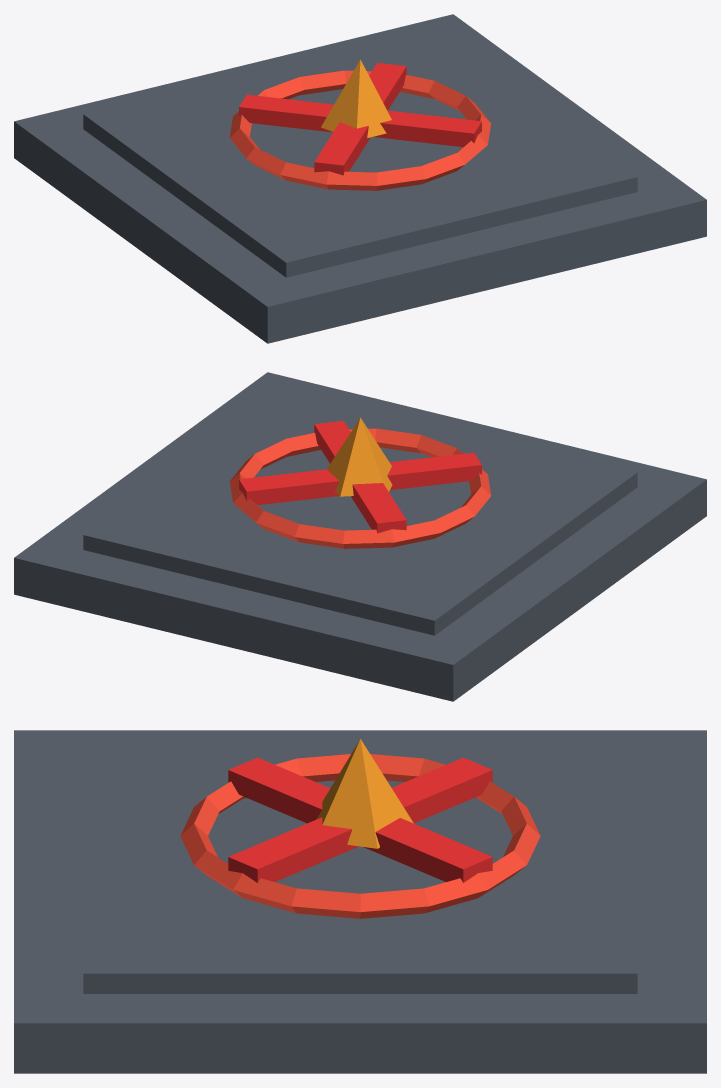
The model's file is TD_DamageTile.fbx.
The picture shows the model from 3 angles, top to bottom: view 1: azimuth 30°, elevation 25°; view 2: azimuth 150°, elevation 25°; view 3: azimuth 270°, elevation 25°; orthographic projection. The views are drawn at different scales.
Parts seen in each view (by area): view 1: TD_DamageTile_Surface, TD_DamageTile_BasePlate, TD_DamageTile_DamageRing, TD_DamageTile_X_B, TD_DamageTile_X_A, TD_DamageTile_SharpMarker; view 2: TD_DamageTile_Surface, TD_DamageTile_BasePlate, TD_DamageTile_DamageRing, TD_DamageTile_X_A, TD_DamageTile_SharpMarker, TD_DamageTile_X_B; view 3: TD_DamageTile_Surface, TD_DamageTile_BasePlate, TD_DamageTile_DamageRing, TD_DamageTile_X_A, TD_DamageTile_X_B, TD_DamageTile_SharpMarker.
Boxes of the visible parts, box(x1,y1,x2,y2) form: TD_DamageTile_Surface: box(83, 28, 637, 277); TD_DamageTile_BasePlate: box(14, 14, 706, 343); TD_DamageTile_DamageRing: box(229, 70, 491, 190); TD_DamageTile_X_B: box(239, 94, 481, 146); TD_DamageTile_X_A: box(314, 63, 406, 175); TD_DamageTile_SharpMarker: box(321, 59, 391, 137); TD_DamageTile_Surface: box(83, 386, 637, 635); TD_DamageTile_BasePlate: box(14, 372, 706, 701); TD_DamageTile_DamageRing: box(229, 428, 491, 548); TD_DamageTile_X_A: box(239, 452, 481, 504); TD_DamageTile_SharpMarker: box(327, 417, 392, 496); TD_DamageTile_X_B: box(314, 421, 406, 533); TD_DamageTile_Surface: box(83, 739, 637, 993); TD_DamageTile_BasePlate: box(14, 730, 706, 1073); TD_DamageTile_DamageRing: box(180, 754, 540, 918); TD_DamageTile_X_A: box(228, 757, 492, 882); TD_DamageTile_X_B: box(228, 757, 492, 882); TD_DamageTile_SharpMarker: box(316, 739, 413, 848).
Size of the model in its own units: 100 by 30 by 100.
